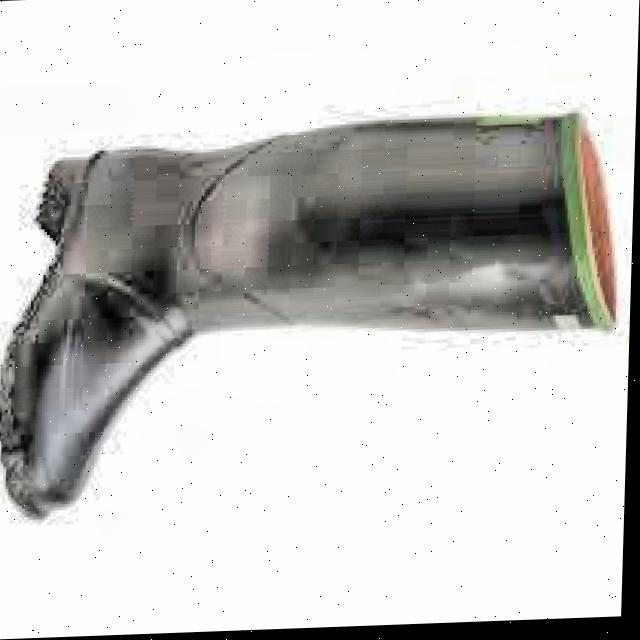shoes: (0, 76, 628, 536)
